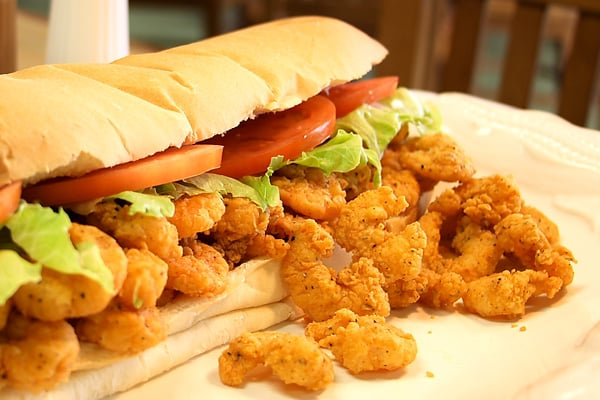soup: (1, 13, 401, 327)
